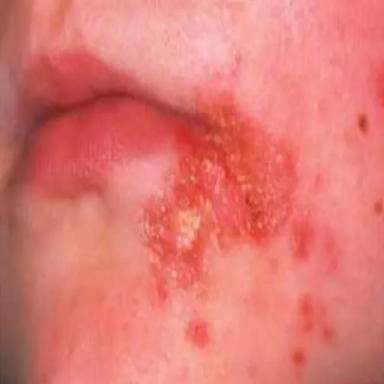Impetigo: (139, 100, 296, 288)
